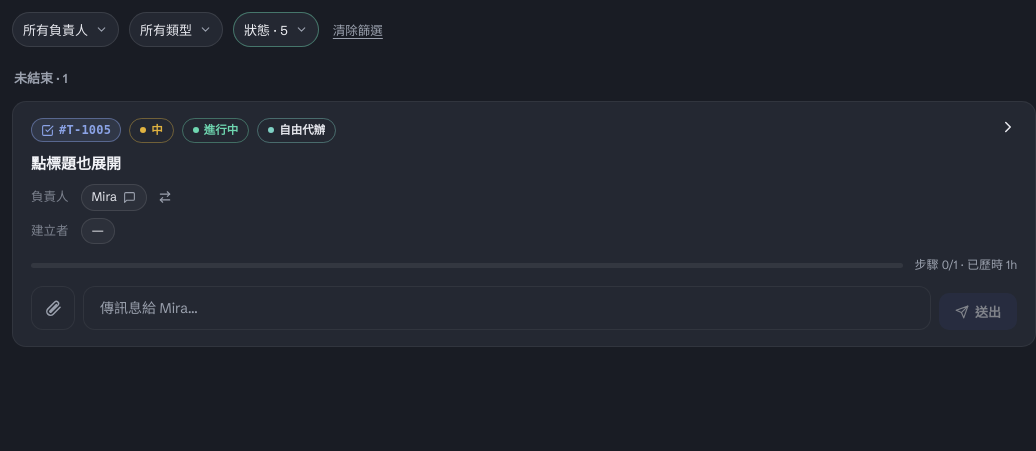
Test: TaskCard whole-card toggle (mobile refactor) › clicking a NON-interactive inner region (the title) still toggles
Click the heading with class "task-card__title". click: (76, 163)
box: x1=31 y1=153 x2=121 y2=174
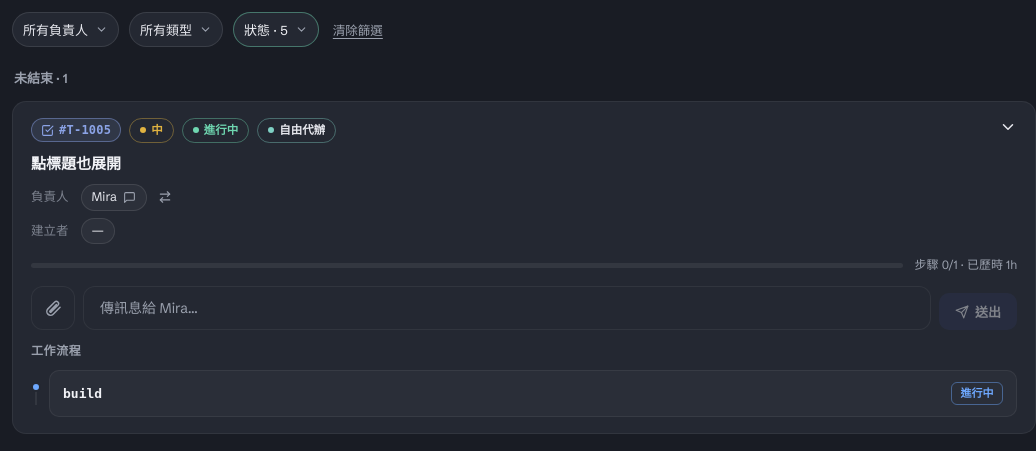
Expected: the button with test id "task-card" is expanded
